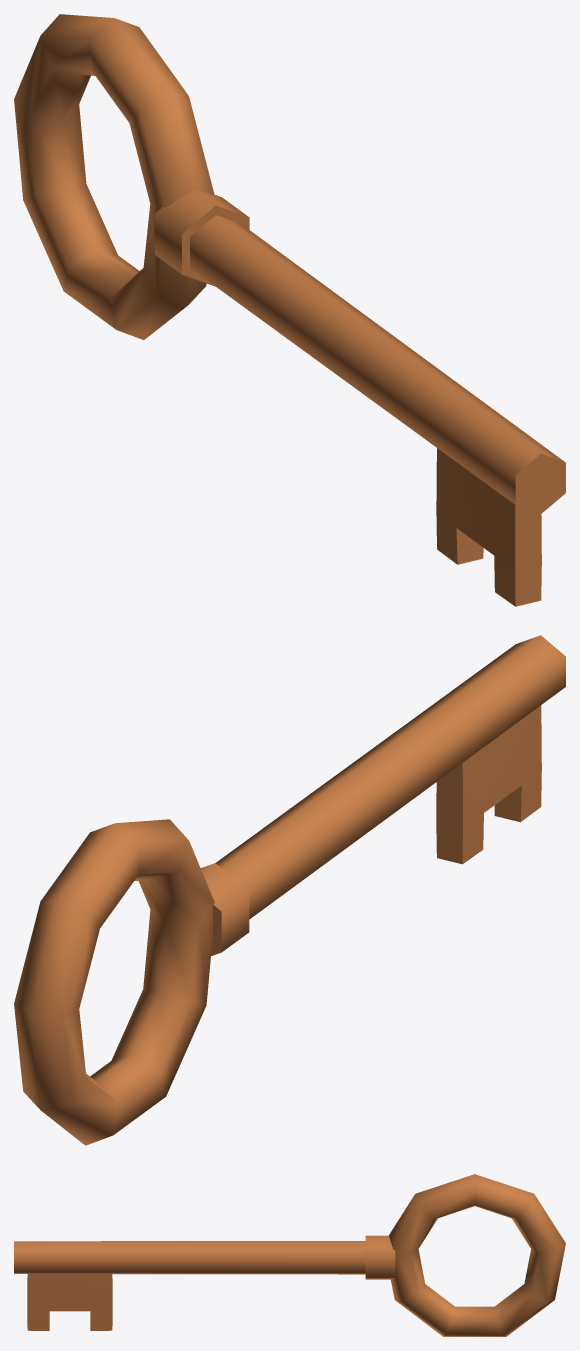
Rendered from Key_01.fbx.
The picture shows the model from 3 angles, top to bottom: view 1: azimuth 30°, elevation 25°; view 2: azimuth 150°, elevation 25°; view 3: azimuth 270°, elevation 25°; orthographic projection. The views are drawn at different scales.
Visible parts, largest first — view 1: Key_01; view 2: Key_01; view 3: Key_01.
Boxes of the visible parts, x1,y1,x2,y2 form: Key_01: (14,14,565,606); Key_01: (14,635,565,1145); Key_01: (14,1174,565,1336).
Bounding box in the file's own units: 0.013 × 0.0556 × 0.1708.
